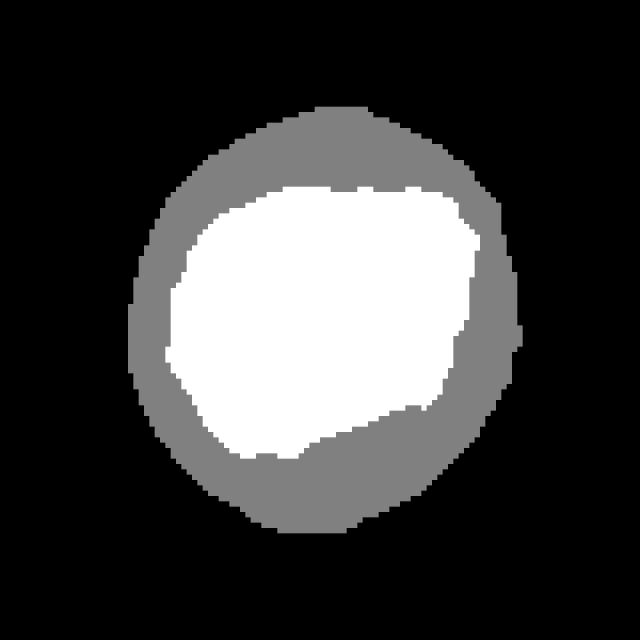WBC: (101, 90, 544, 554)
